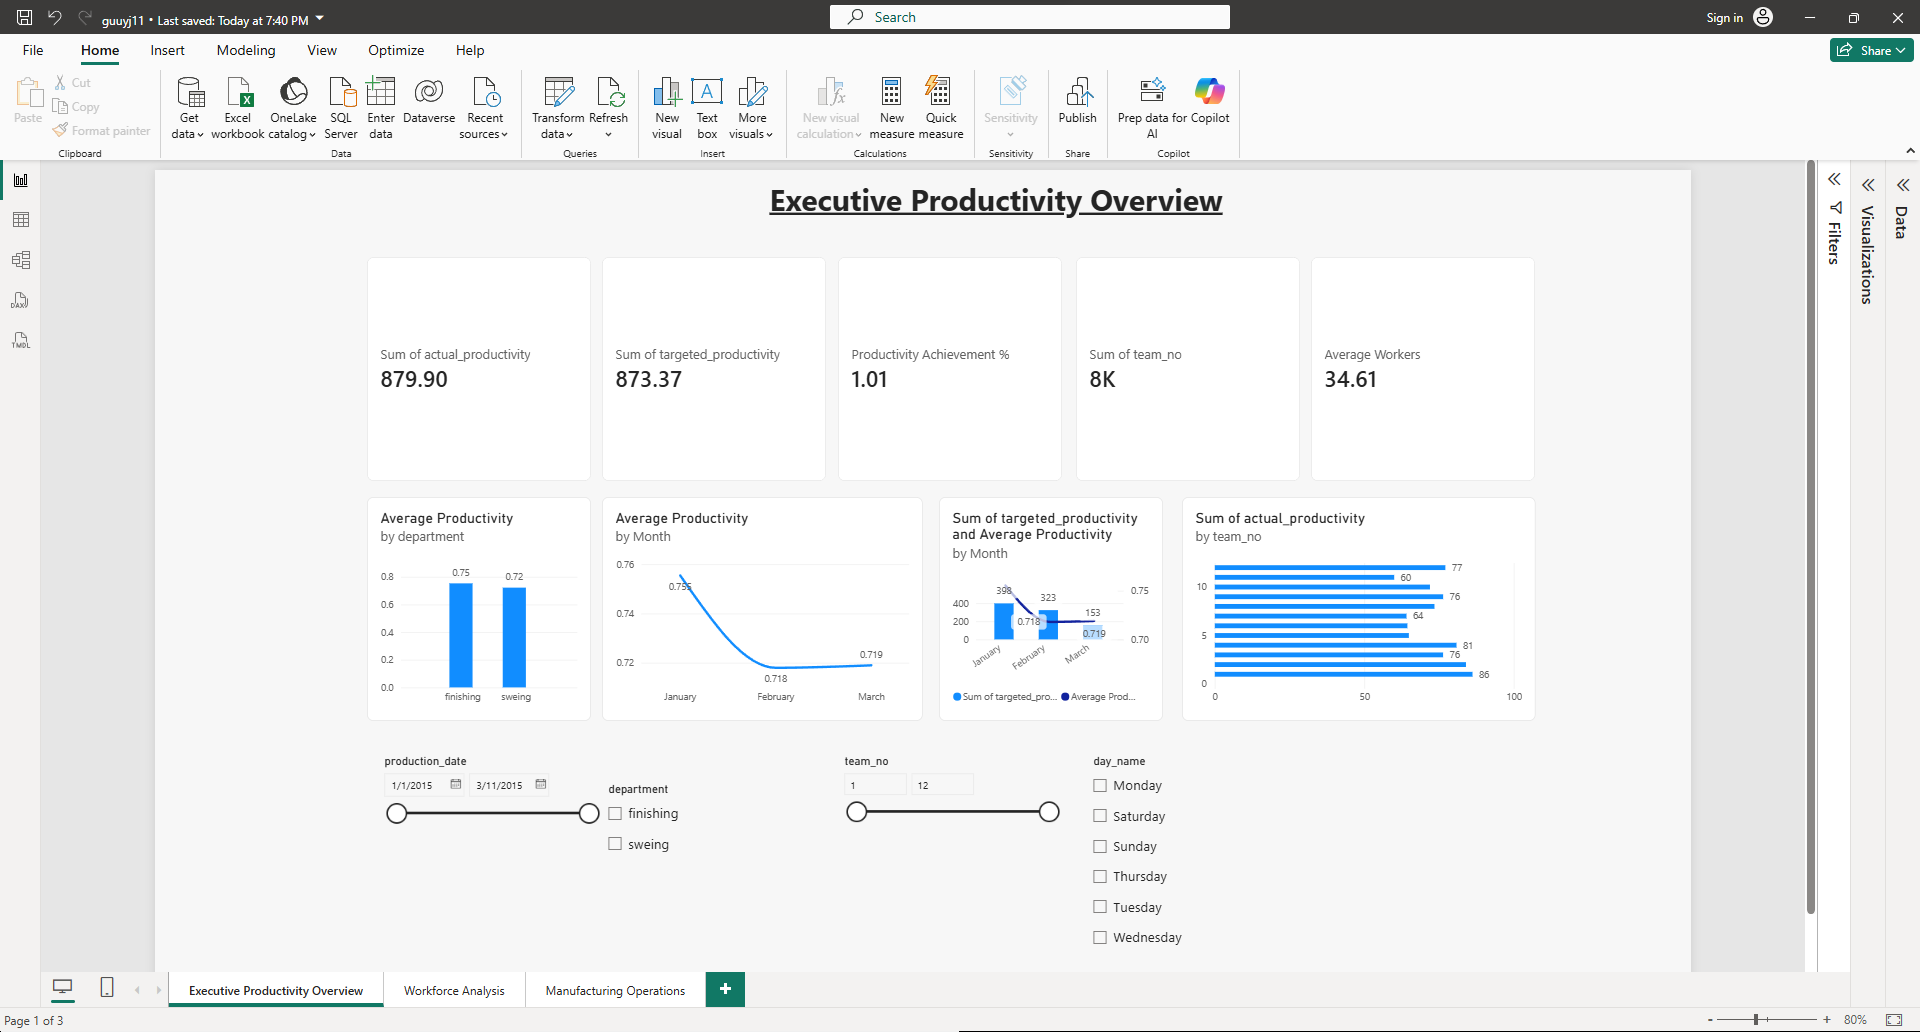

Layout of this report page (visuals, bound fields, positions):
{"tool":"powerbi","page":{"name":"Executive Productivity Overview","canvas":[1920,1080],"ordinal":0},"visuals":[{"type":"cardVisual","fields":{"Data":["Sum(ProductionProductivity.actual_productivity)"]},"box":[265,108.3,280,280],"z":0},{"type":"cardVisual","fields":{"Data":["Sum(ProductionProductivity.targeted_productivity)"]},"box":[558.3,108.3,280,280],"z":1000},{"type":"cardVisual","fields":{"Data":["ProductionProductivity.Productivity Achievement %"]},"box":[853.3,108.3,280,280],"z":2000},{"type":"cardVisual","fields":{"Data":["Sum(ProductionProductivity.team_no)"]},"box":[1151.7,108.3,280,280],"z":3000},{"type":"cardVisual","fields":{"Data":["ProductionProductivity.Average Workers"]},"box":[1445,108.3,280,280],"z":4000},{"type":"clusteredColumnChart","fields":{"Category":["ProductionProductivity.department"],"Y":["ProductionProductivity.Average Productivity"]},"box":[265,408.3,280,280],"z":5000},{"type":"lineChart","fields":{"Category":["ProductionProductivity.production_date.Variation.Date Hierarchy.Month"],"Y":["ProductionProductivity.Average Productivity"]},"box":[558.3,408.3,401.4,280],"z":6000},{"type":"lineClusteredColumnComboChart","fields":{"Category":["ProductionProductivity.production_date.Variation.Date Hierarchy.Month"],"Y":["Sum(ProductionProductivity.targeted_productivity)"],"Y2":["ProductionProductivity.Average Productivity"]},"box":[980,408.3,280,280],"z":7000},{"type":"barChart","fields":{"Category":["ProductionProductivity.team_no"],"Y":["Sum(ProductionProductivity.actual_productivity)"]},"box":[1283.3,408.3,441.7,280],"z":8000},{"type":"slicer","fields":{"Values":["ProductionProductivity.production_date"]},"box":[278.3,731.7,280,280],"z":9000},{"type":"slicer","fields":{"Values":["ProductionProductivity.department"]},"box":[558.3,766.7,280,210],"z":10000},{"type":"slicer","fields":{"Values":["ProductionProductivity.team_no"]},"box":[853.3,731.7,280,210],"z":11000},{"type":"slicer","fields":{"Values":["ProductionProductivity.day_name"]},"box":[1165,731.2,320,257.5],"z":12000},{"type":"textbox","box":[686.7,11.7,730,75],"z":13000}]}

Visuals, with their boxes on the page's 1920x1080 design canvas (x1, y1, x2, y2). These are canvas units, not pixel positions in the 1920x1032 screenshot, which may show the page scaled, cropped or inside an application window:
cardVisual - Sum(ProductionProductivity.actual_productivity): 265 108 545 388
cardVisual - Sum(ProductionProductivity.targeted_productivity): 558 108 838 388
cardVisual - ProductionProductivity.Productivity Achievement %: 853 108 1133 388
cardVisual - Sum(ProductionProductivity.team_no): 1152 108 1432 388
cardVisual - ProductionProductivity.Average Workers: 1445 108 1725 388
clusteredColumnChart - ProductionProductivity.department x ProductionProductivity.Average Productivity: 265 408 545 688
lineChart - ProductionProductivity.production_date.Variation.Date Hierarchy.Month x ProductionProductivity.Average Productivity: 558 408 960 688
lineClusteredColumnComboChart - ProductionProductivity.production_date.Variation.Date Hierarchy.Month x Sum(ProductionProductivity.targeted_productivity): 980 408 1260 688
barChart - ProductionProductivity.team_no x Sum(ProductionProductivity.actual_productivity): 1283 408 1725 688
slicer - ProductionProductivity.production_date: 278 732 558 1012
slicer - ProductionProductivity.department: 558 767 838 977
slicer - ProductionProductivity.team_no: 853 732 1133 942
slicer - ProductionProductivity.day_name: 1165 731 1485 989
textbox: 687 12 1417 87
